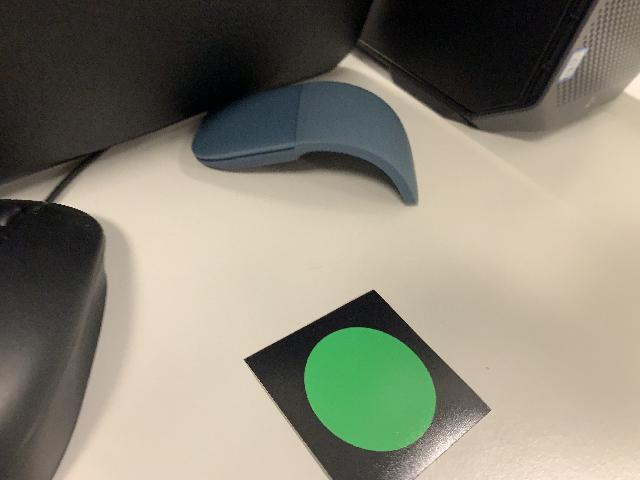go: (239, 286, 499, 479)
